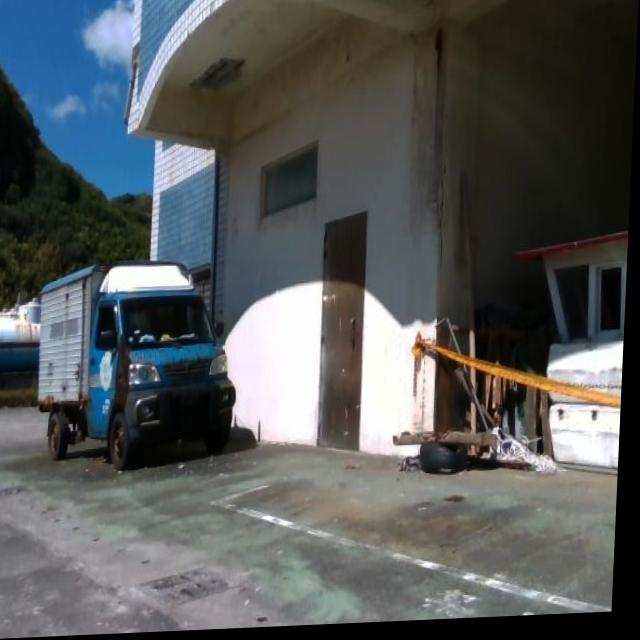pollute: (394, 229, 631, 481)
